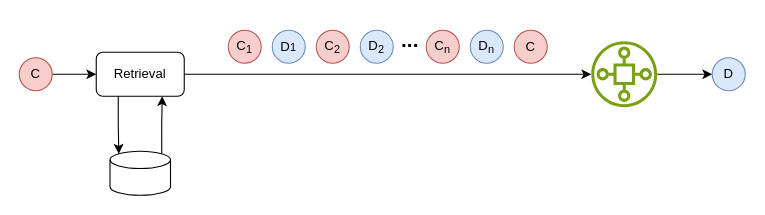
Image size: 765x215. Some labels were removed from this diagram. Here are the shapes that lost their labels. From the top down, the centre of each, then its label:
pixel 624 74: Pretrained LLM
pixel 139 172: VDB
